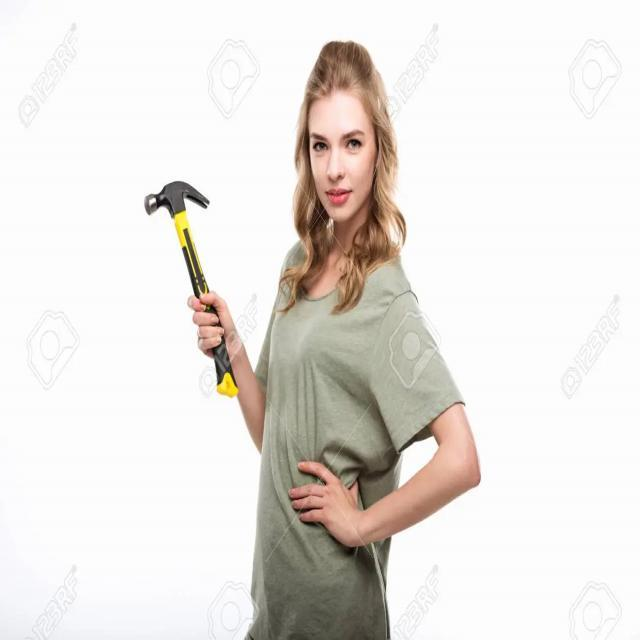hammer: (138, 174, 242, 402)
